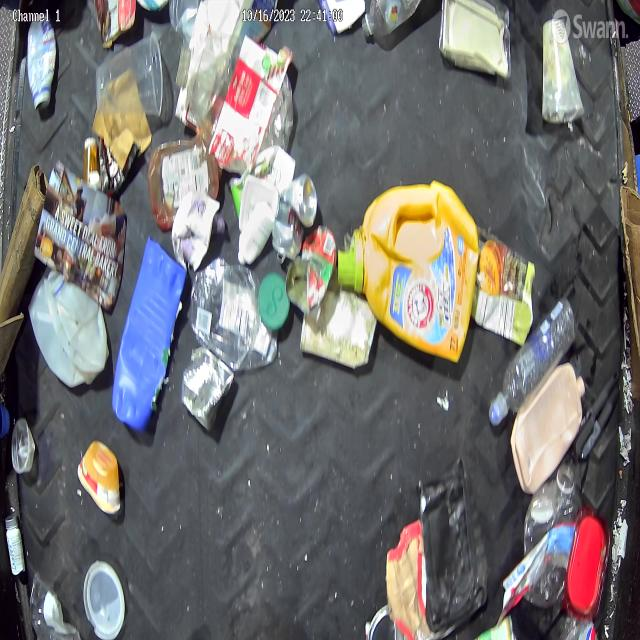can: (285, 224, 337, 314), (182, 346, 235, 434), (273, 173, 317, 261)
milk_jug: (29, 269, 112, 389)
non_white_jug: (338, 180, 479, 363)
plastic_bottle: (488, 293, 578, 422), (524, 463, 582, 608), (361, 0, 426, 38)
